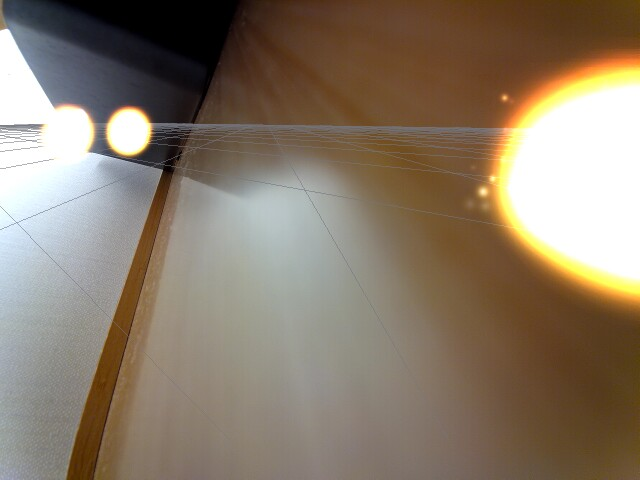firebig: (485, 43, 640, 334)
